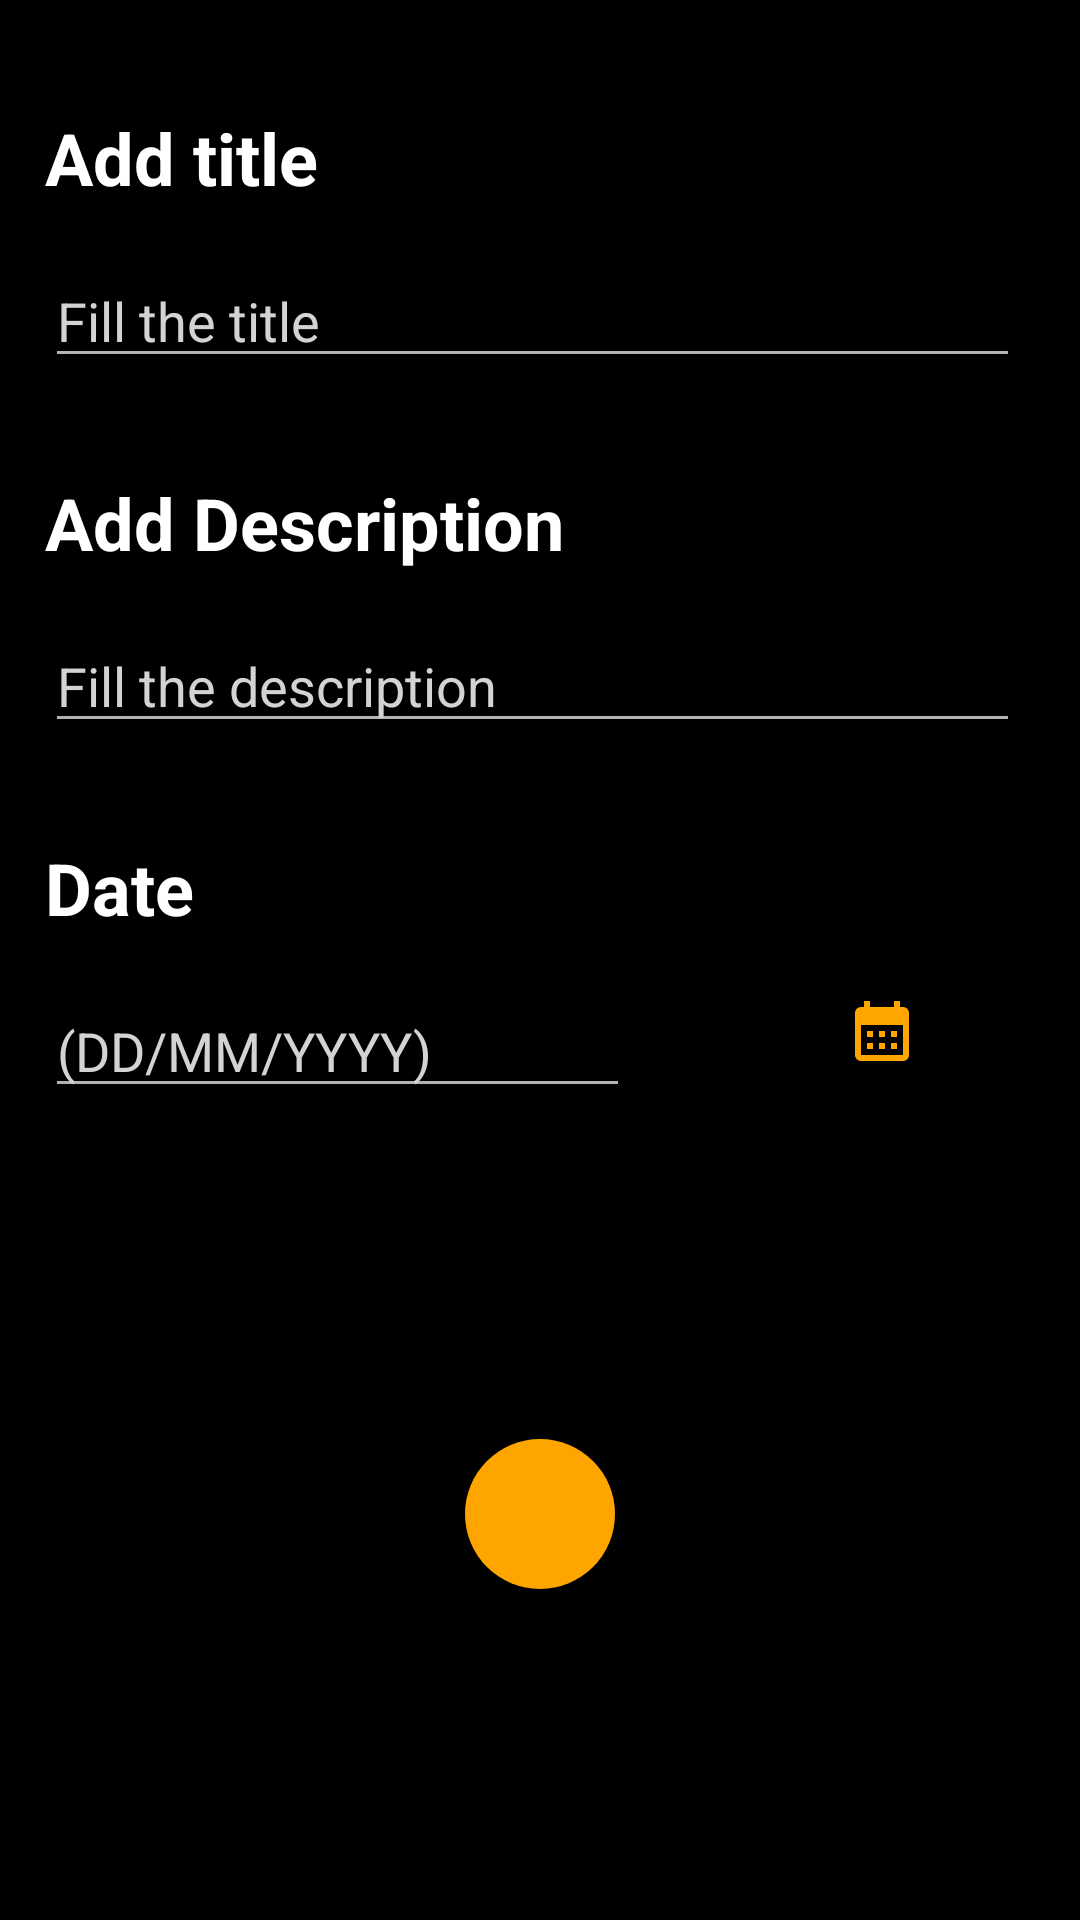

Icon click points for this 1080px×1920px phone screenshot, format (x,y):
calendar: (882,1031)
